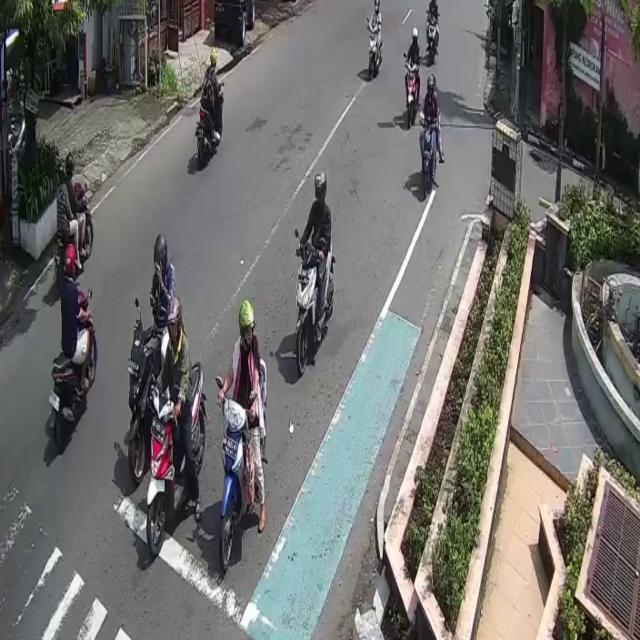bus: (147, 360, 203, 562), (220, 356, 268, 562), (50, 290, 98, 458), (128, 321, 162, 487), (297, 223, 333, 378), (54, 184, 94, 270), (197, 89, 223, 167), (420, 116, 435, 196), (404, 62, 417, 125), (368, 20, 382, 77)
